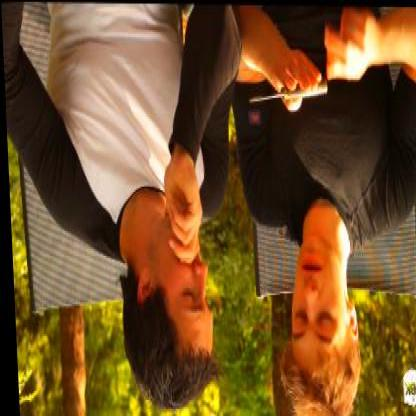knife: (238, 61, 330, 115)
